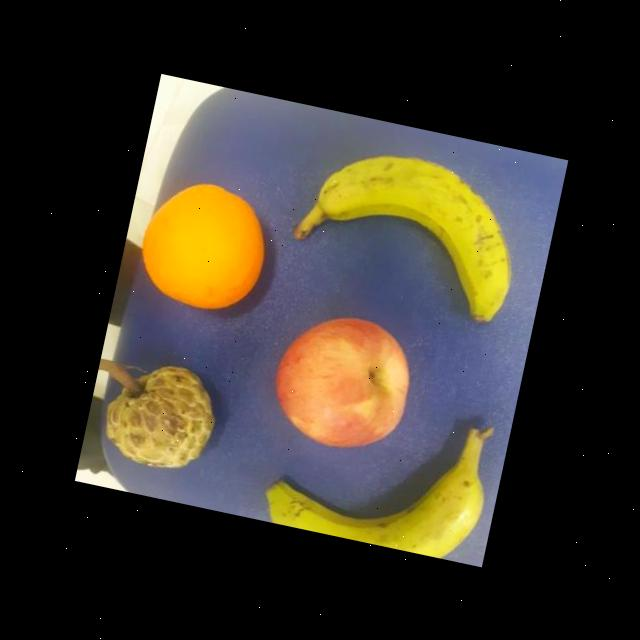Sakya fruit: (92, 354, 228, 490)
apple: (258, 297, 424, 464)
banana: (290, 121, 532, 331), (258, 432, 496, 566)
orange: (132, 168, 286, 322)
